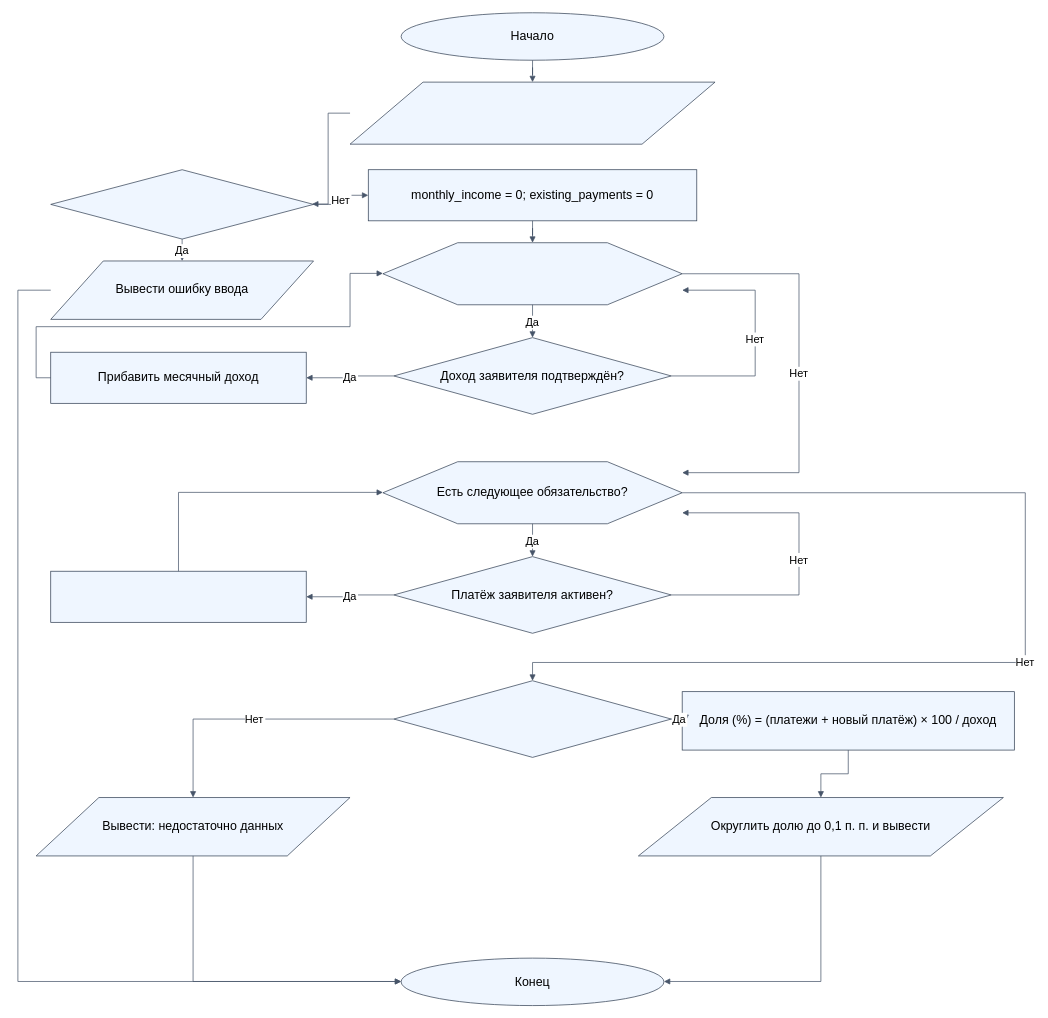
Some shapes in this 1048 by 1018 pixel diagram are drawn without their labels. Each missing label, with the centre of its shape:
"Ввести доходы, обязательства и предложенный платёж" belongs at point (532, 112).
"Есть следующая запись дохода?" belongs at point (532, 273).
"Подтверждённый доход больше нуля?" belongs at point (532, 718).
"Предложенный платёж отрицателен?" belongs at point (182, 204).
"Прибавить месячный платёж" belongs at point (178, 596).
